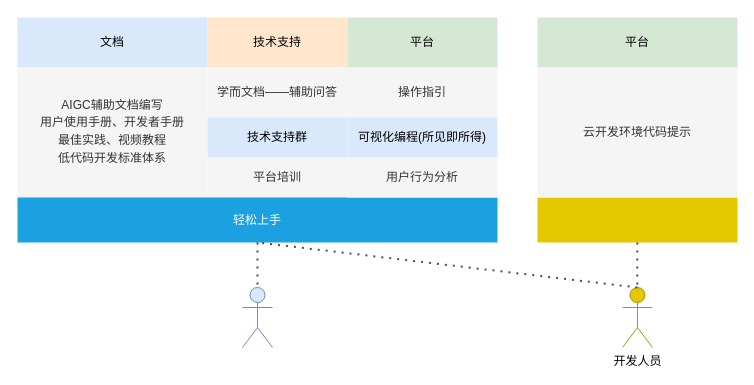
This 754x385 diagram has some shape labels left out. Each missing label, with the centre of its shape:
"业务人员" goes at point 257,317.
"无感切换" goes at point 637,219.
